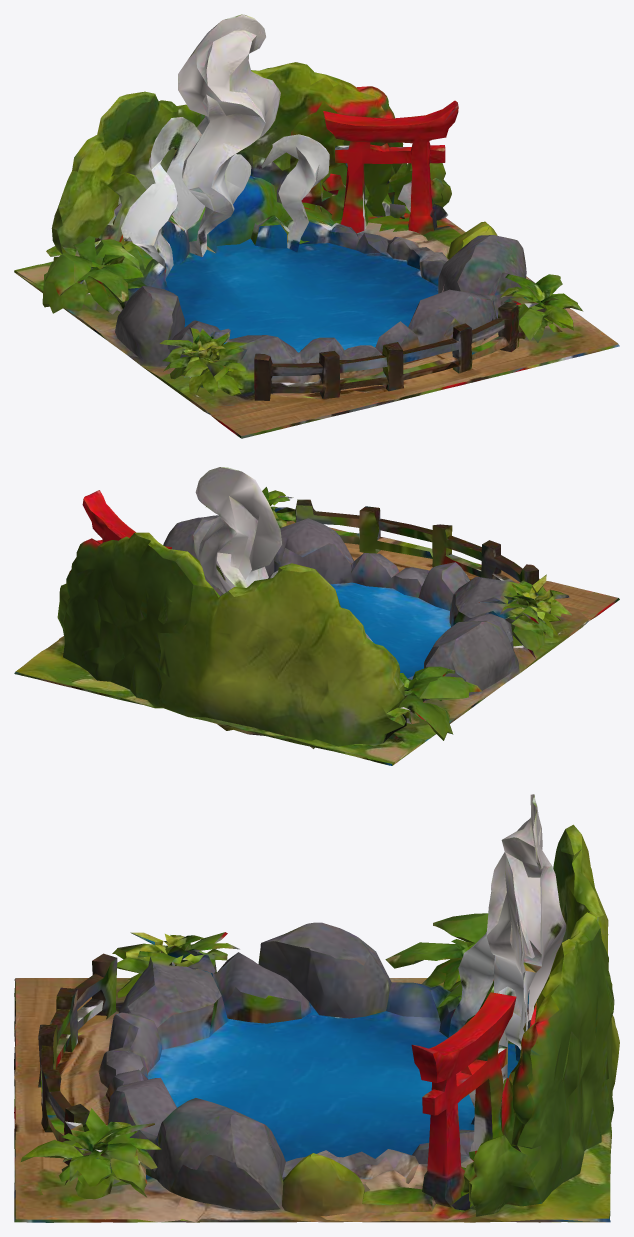
The model's file is beppu-umi-jigoku.glb.
3 views of the same model, one above another, from view 1: azimuth 30°, elevation 25°; view 2: azimuth 150°, elevation 25°; view 3: azimuth 270°, elevation 25° (orthographic). The views are drawn at different scales.
Parts seen in each view (by area): view 1: logan-textured.obj; view 2: logan-textured.obj; view 3: logan-textured.obj.
Part boxes in pixels (x1,y1,x2,y2): logan-textured.obj: (14, 14, 619, 438); logan-textured.obj: (14, 467, 619, 765); logan-textured.obj: (14, 794, 619, 1222).
Size of the model in its own units: 1 by 0.5665 by 0.9826.
1 material, 1 textured.
